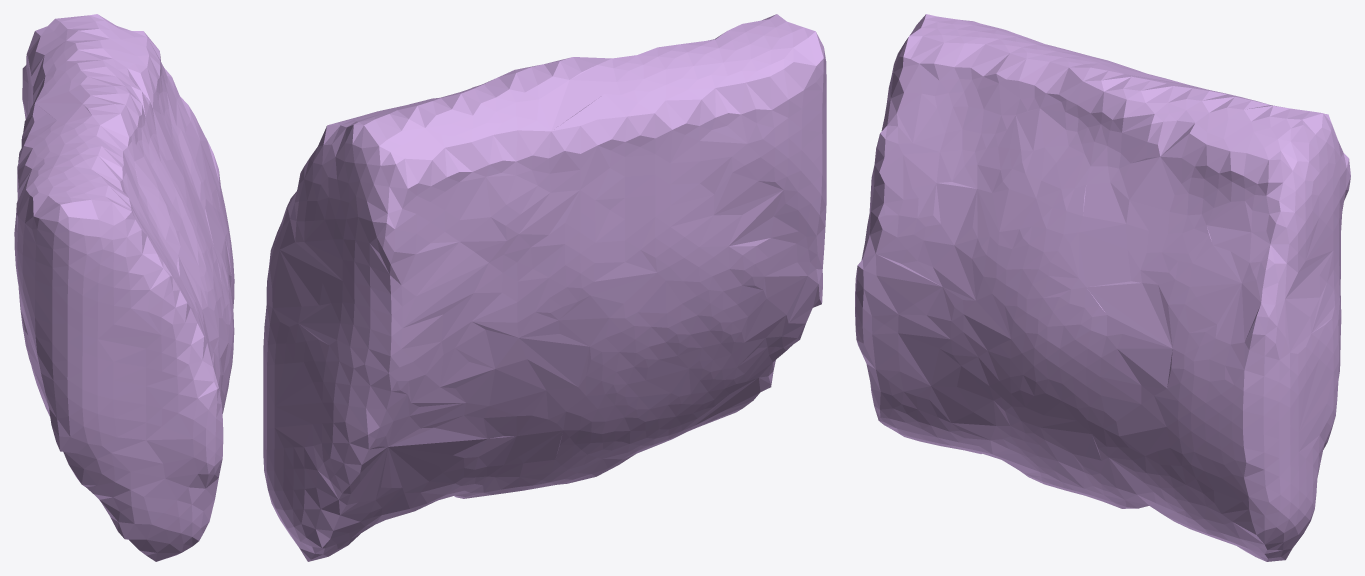
The model's file is Model_10141_LH__Ventral_intraparietal_area_of_cortex_(VIP).obj.
The picture shows the model from 3 angles, left to right: view 1: azimuth 30°, elevation 25°; view 2: azimuth 150°, elevation 25°; view 3: azimuth 270°, elevation 25°; orthographic projection. The views are drawn at different scales.
Size of the model in its own units: 1.91 by 2.2 by 2.38.
